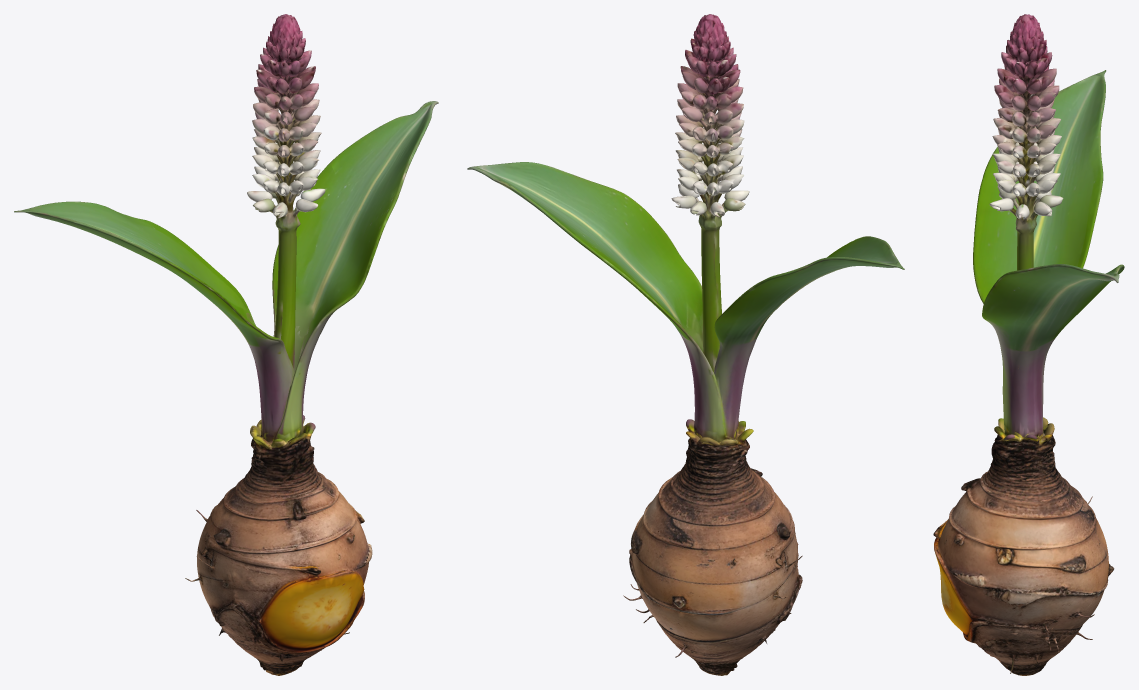
File: eshu.glb
3 views of the same model, side by side, from view 1: azimuth 30°, elevation 25°; view 2: azimuth 150°, elevation 25°; view 3: azimuth 270°, elevation 25° (orthographic).
Visible parts, largest first — view 1: node_0; view 2: node_0; view 3: node_0.
Part boxes in pixels (x1,y1,x2,y2): node_0: [14, 14, 438, 675]; node_0: [467, 14, 904, 675]; node_0: [933, 14, 1124, 675].
Bounding box in the file's own units: 0.8225 × 1.2 × 0.3135.
1 material, 1 textured.
